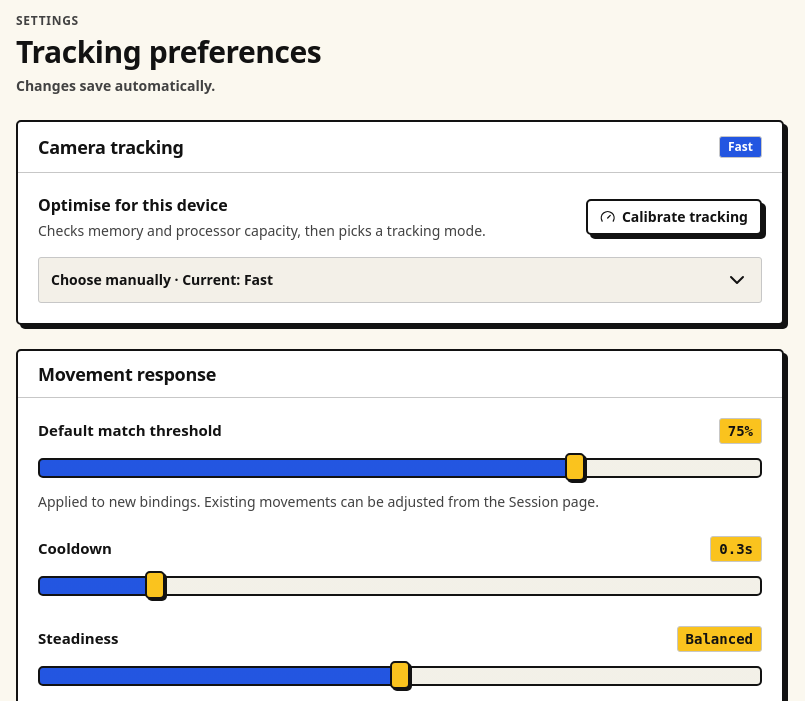
Settings and accessibility › handles recommendation success with a live status update
This screenshot has width=805, height=701.
Click the button "Calibrate tracking".
click(674, 217)  # box x1=586 y1=199 x2=762 y2=235
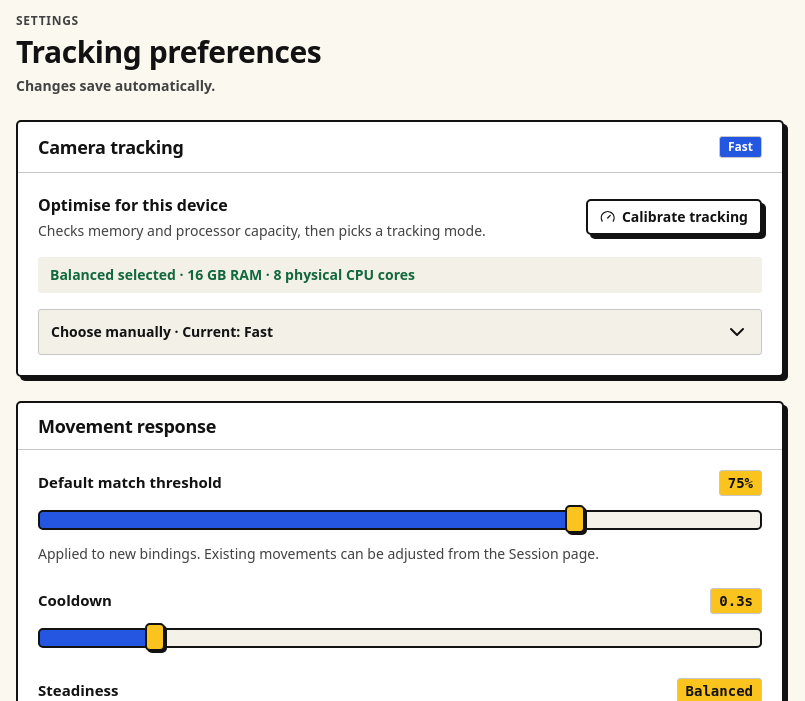
Check: the message "Balanced selected · 16 GB RAM · 8 physical CPU cores" is shown, box x1=38 y1=257 x2=762 y2=293
